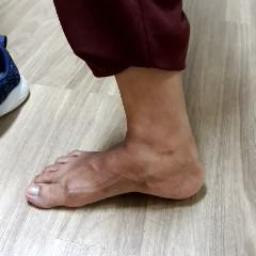Medial View -Right Foot-: (15, 102, 224, 228)
